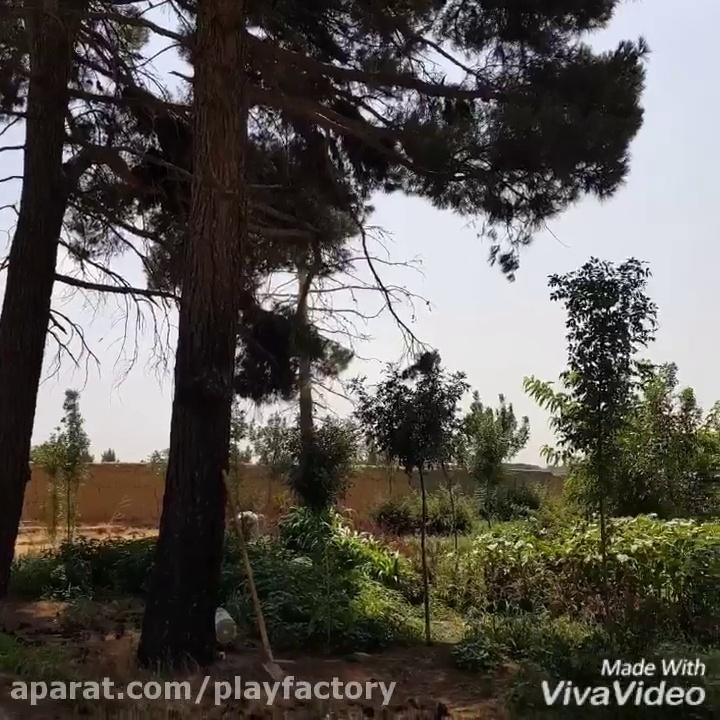drone: (357, 328, 373, 342)
